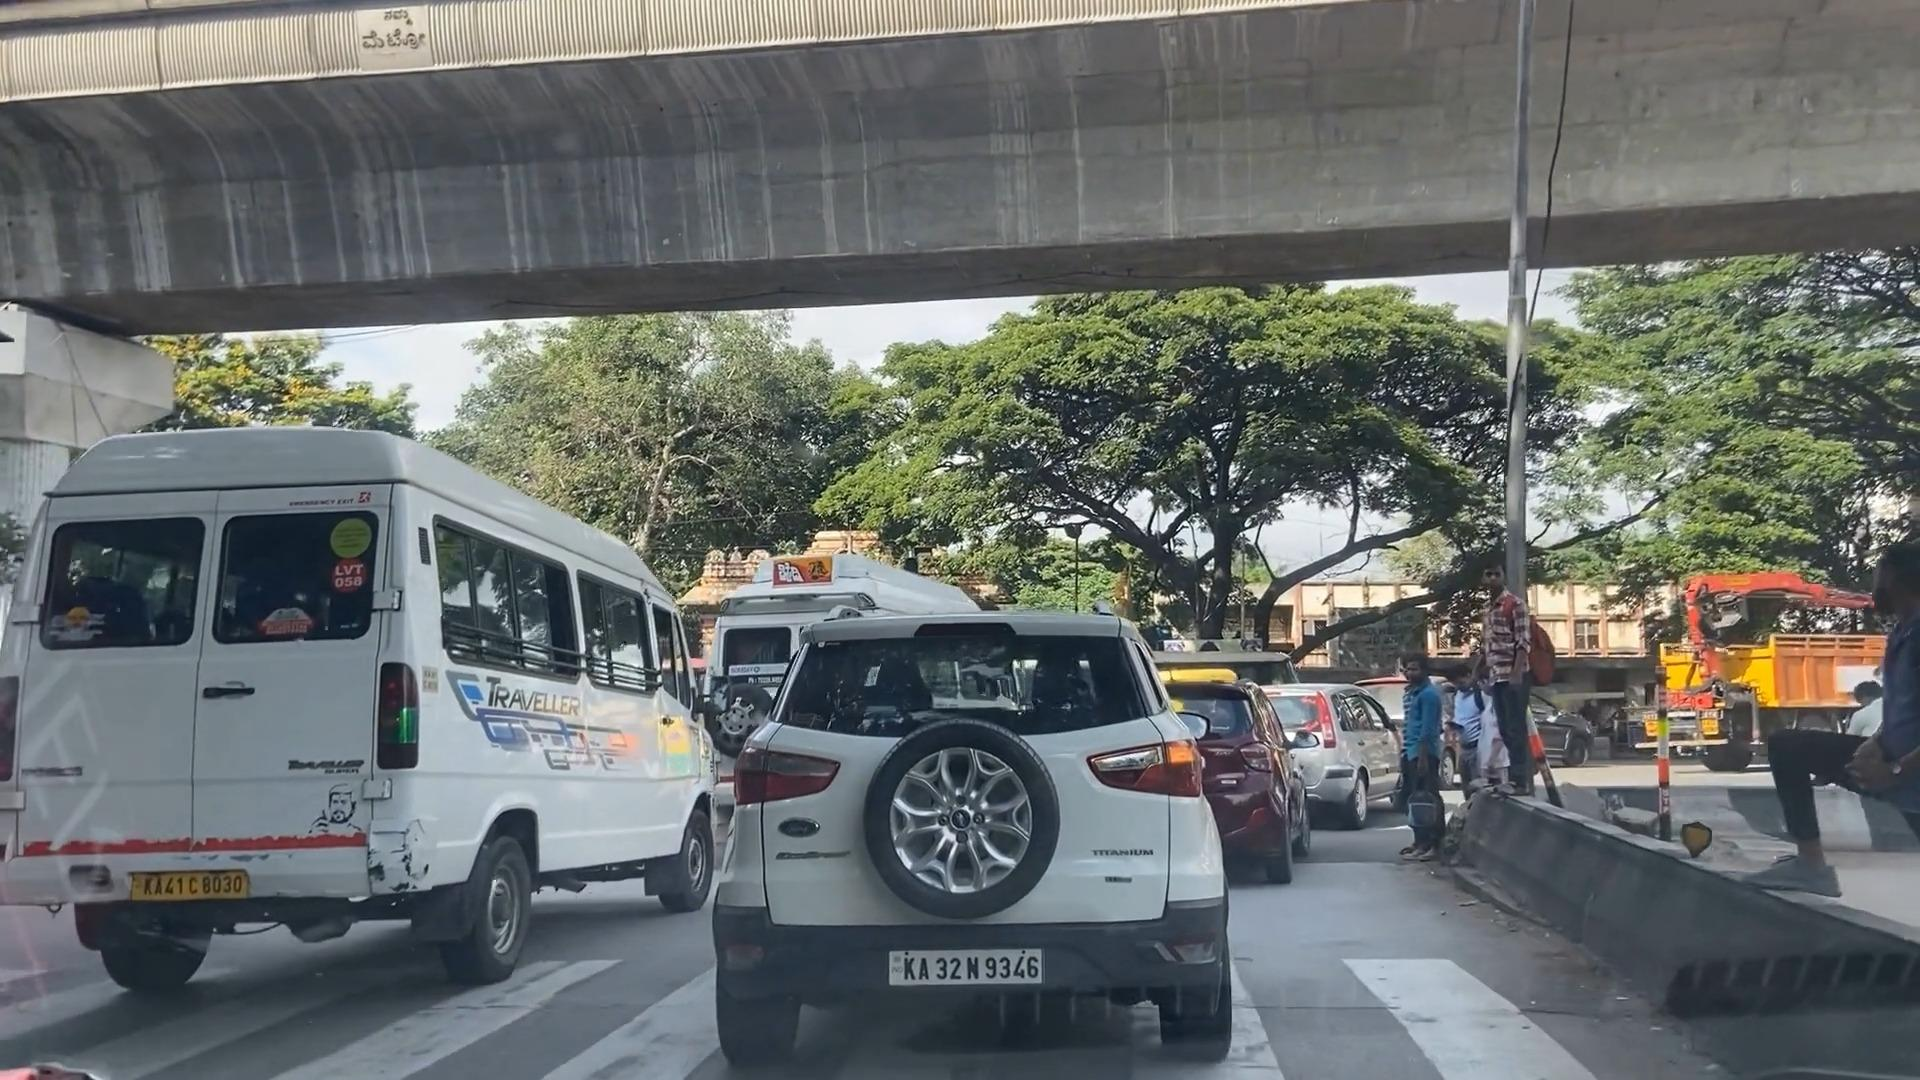HMV: (13, 415, 707, 968)
LMV: (738, 608, 1245, 1080)
